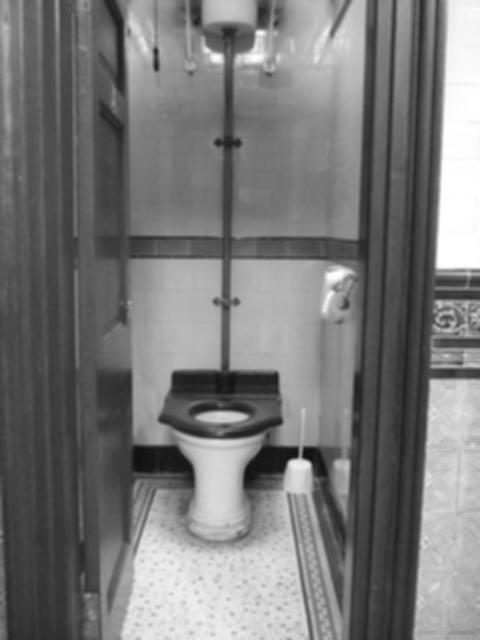Sanitario: (157, 363, 286, 548)
